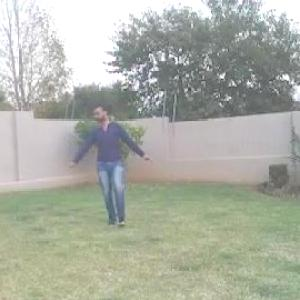land: (47, 83, 160, 239)
